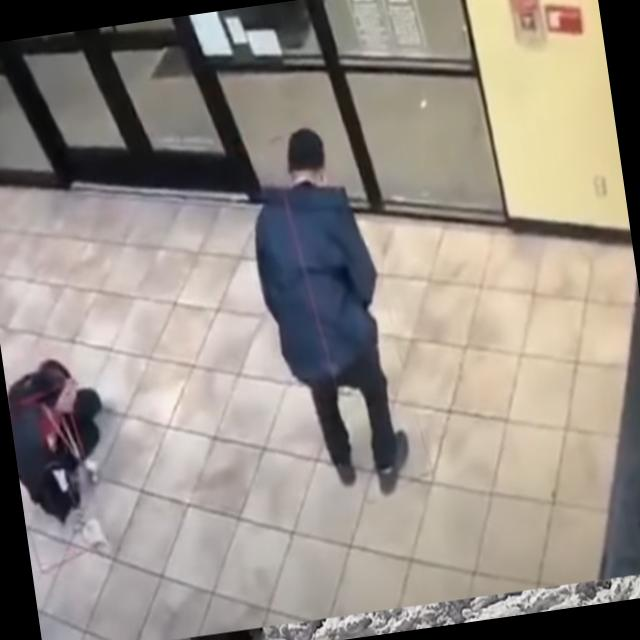person: (240, 119, 413, 507), (3, 352, 118, 530)
